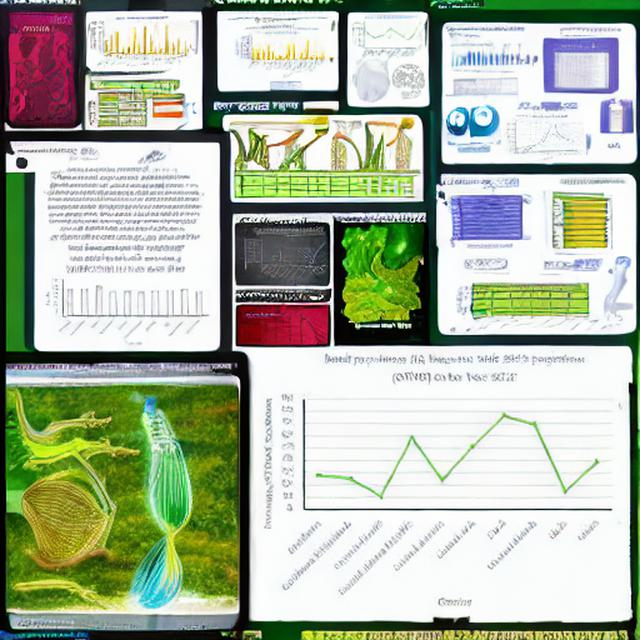Graph: (256, 347, 617, 613), (43, 252, 208, 347), (242, 227, 330, 286), (93, 16, 187, 68), (237, 26, 327, 79), (502, 113, 583, 161), (351, 14, 420, 61), (448, 43, 498, 73)
